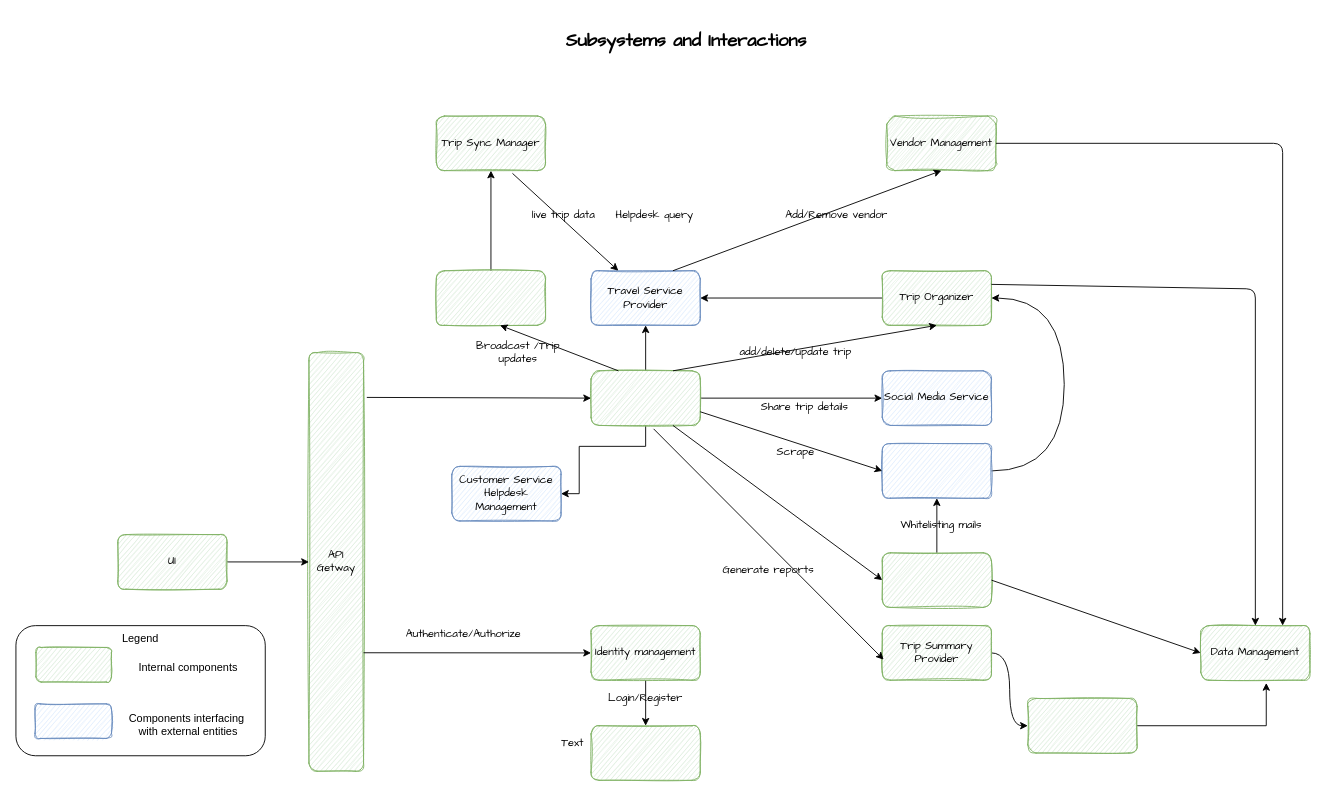
The diagram is 1326 pixels wide and 796 high, and some of its shapes have lost their labels. Each missing label, with the centre of its shape:
Dashboard Coordinator: (645,397)
Data Analystics Provider: (1082,725)
Email Service: (936,470)
Notification Manager: (490,297)
User Configuration Management: (936,579)
User Management: (645,752)
